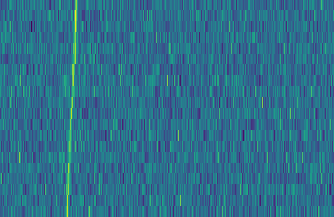signal: (59, 0, 78, 217)
